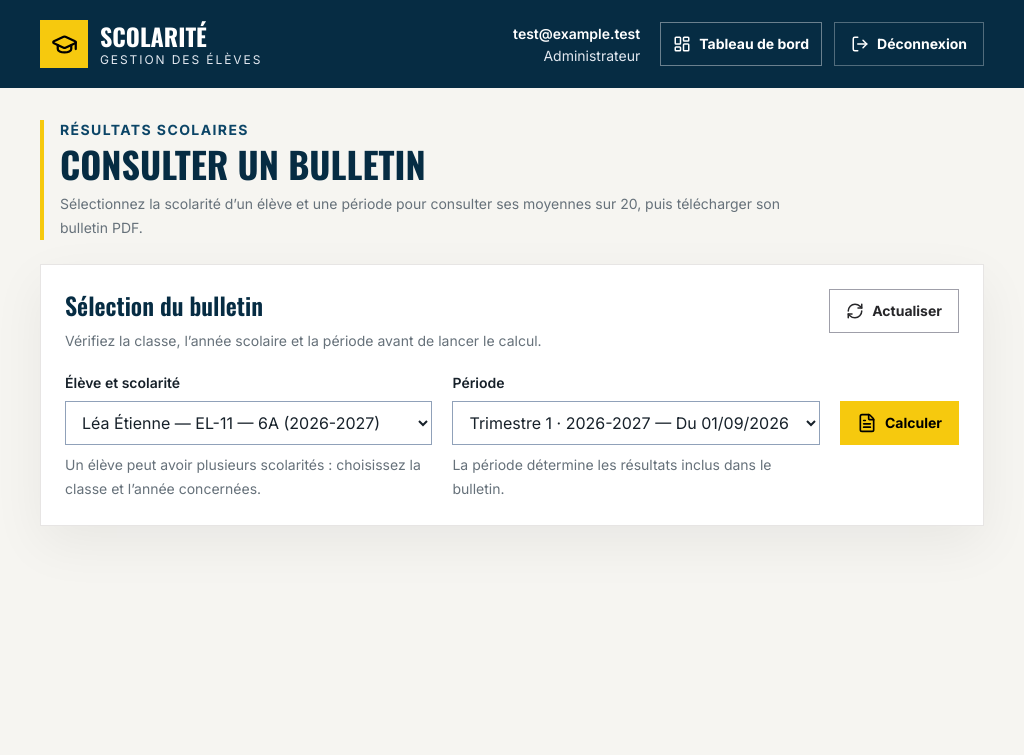
Test: bulletins › conserve les arrondis, les coefficients, les nombres de notes et les moyennes non calculables
This screenshot has width=1024, height=755.
Click the button "Calculer": (899, 423) 840,401 -> 959,445
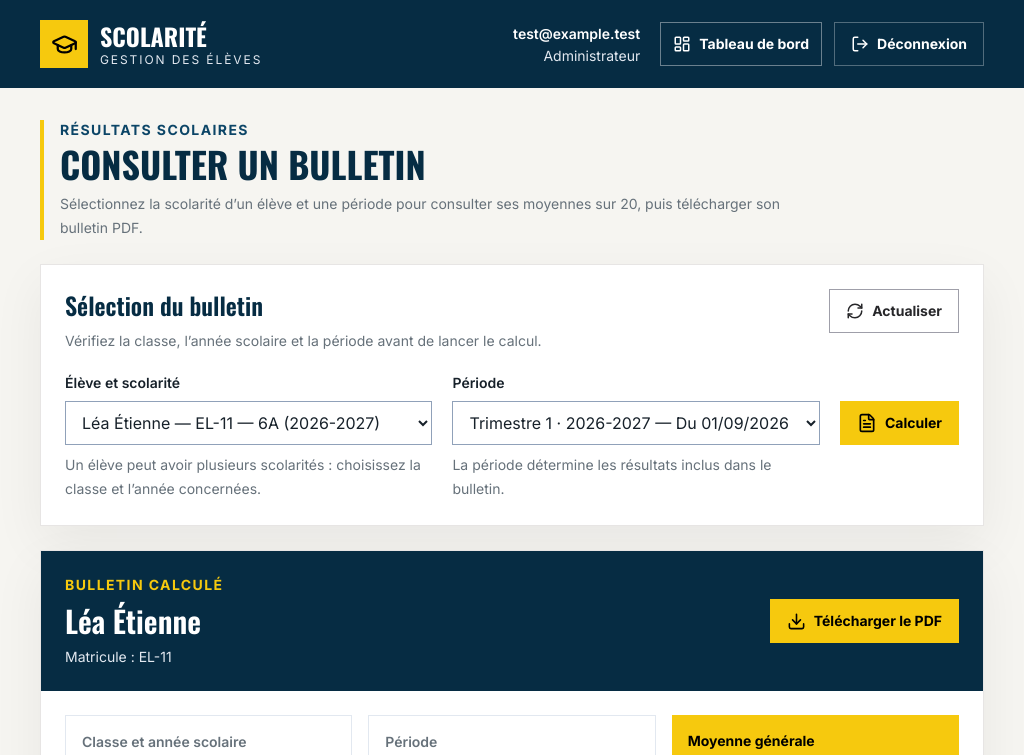
Now the heading "Léa Étienne" is shown, box 65,603 -> 224,639
